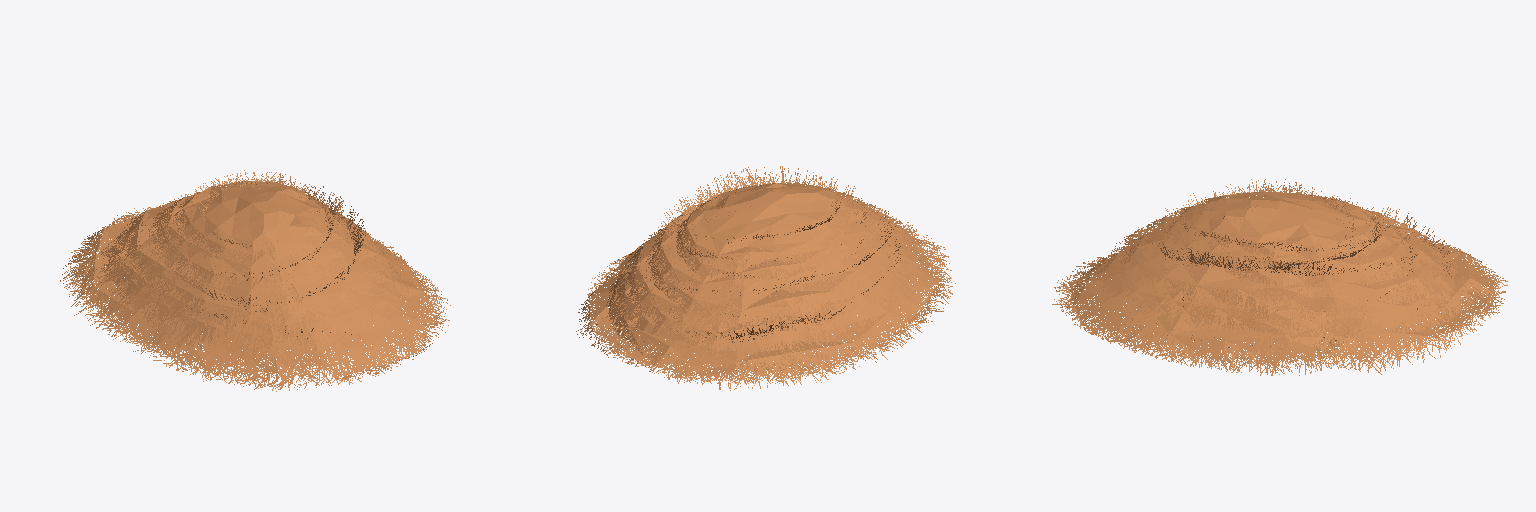
3 views of the same model, side by side, from view 1: azimuth 30°, elevation 25°; view 2: azimuth 150°, elevation 25°; view 3: azimuth 270°, elevation 25° (orthographic).
Visible parts, largest first — view 1: obj1; view 2: obj1; view 3: obj1.
Part boxes in pixels (x1,y1,x2,y2): obj1: (60,170,450,391); obj1: (576,166,955,390); obj1: (1052,179,1507,375).
Size of the model in its own units: 1.54 by 0.5139 by 2.
1 materials, 1 textured.